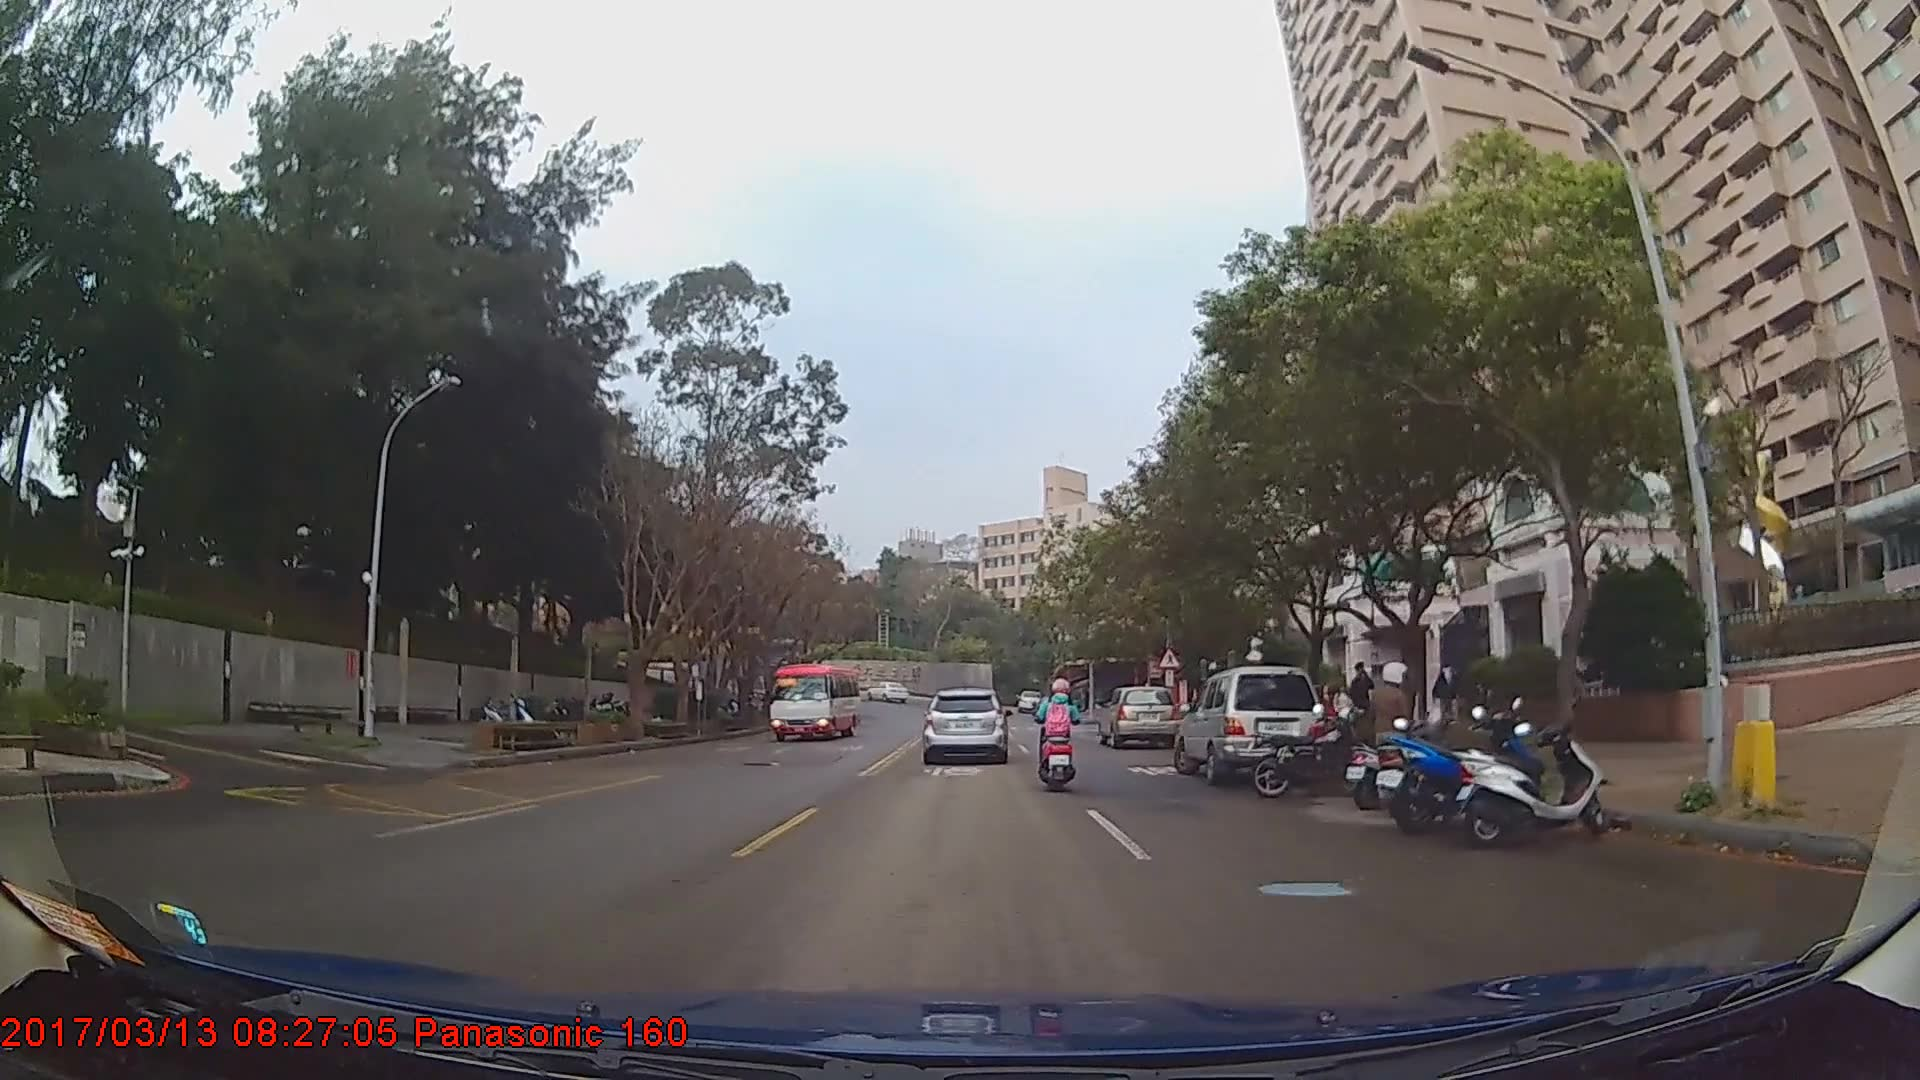pedestrian: (1351, 660, 1376, 732)
rider: (1350, 660, 1431, 802), (1033, 669, 1087, 798)
vehicle: (1173, 664, 1325, 784), (767, 659, 859, 741), (919, 684, 1007, 762), (1096, 682, 1178, 746), (861, 676, 910, 702)
